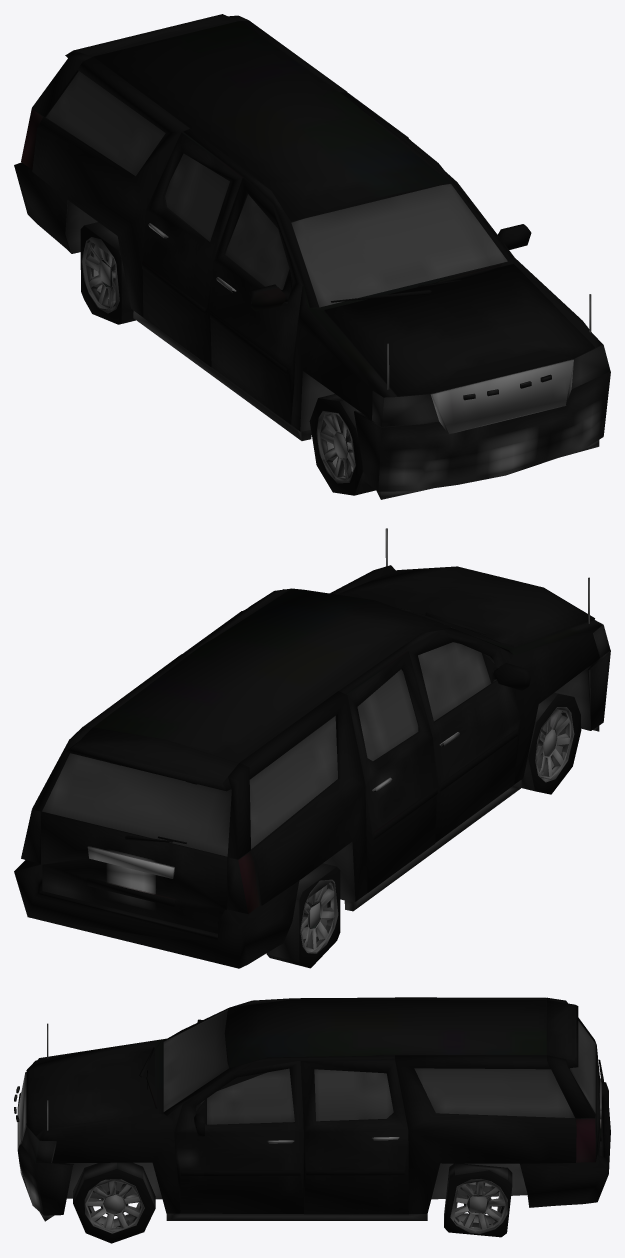
File: president-car.lod.glb
The picture shows the model from 3 angles, top to bottom: view 1: azimuth 30°, elevation 25°; view 2: azimuth 150°, elevation 25°; view 3: azimuth 270°, elevation 25°; orthographic projection. The views are drawn at different scales.
Parts seen in each view (by area): view 1: Yukon.Body_0; view 2: Yukon.Body_0; view 3: Yukon.Body_0.
Part boxes in pixels (x1=…): Yukon.Body_0: x1=14, y1=14, x2=610, y2=499; Yukon.Body_0: x1=14, y1=528, x2=610, y2=968; Yukon.Body_0: x1=14, y1=997, x2=610, y2=1243.
Size of the model in its own units: 1.89 by 1.5 by 4.52.
1 material, 1 textured.
